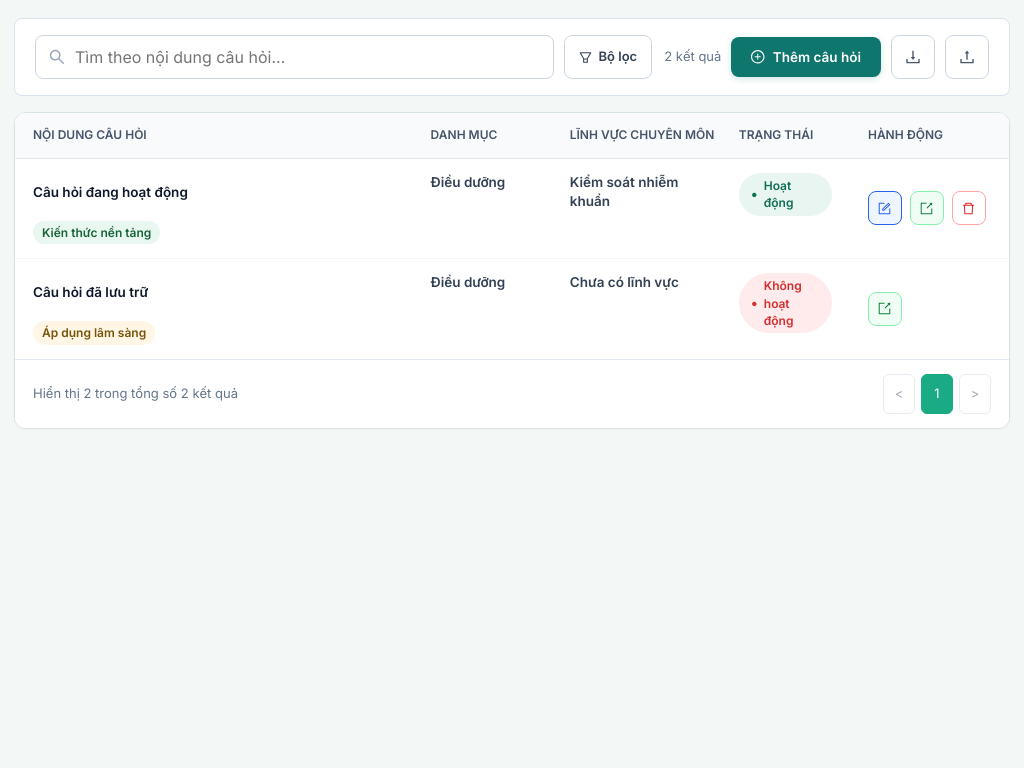
Test: QuestionBankListPage - chi tiết câu hỏi › mở chi tiết, tải bản đầy đủ và đánh dấu đáp án đúng
Click the button "Câu hỏi đang hoạt động" at (110, 192), box [33, 173, 395, 213]
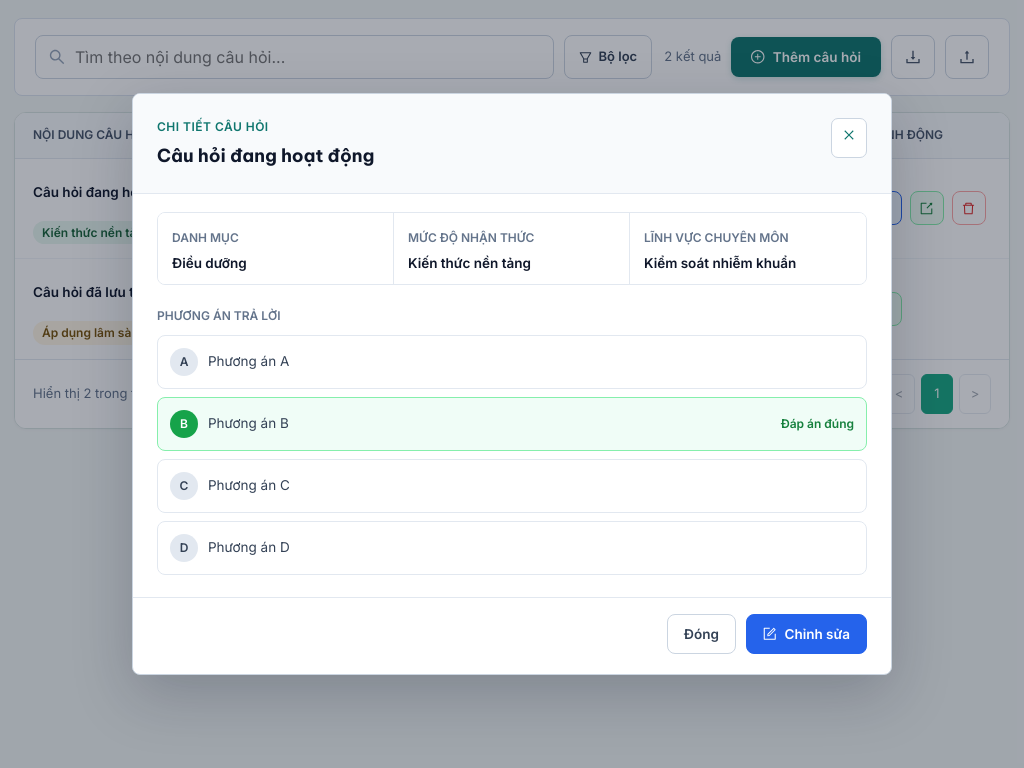
expect the text "Phương án B" is shown: met, box [208, 415, 289, 431]
expect the text "Đáp án đúng" is shown: met, box [781, 416, 854, 430]
expect the text "Điều dưỡng" is shown: met, box [172, 255, 247, 271]
